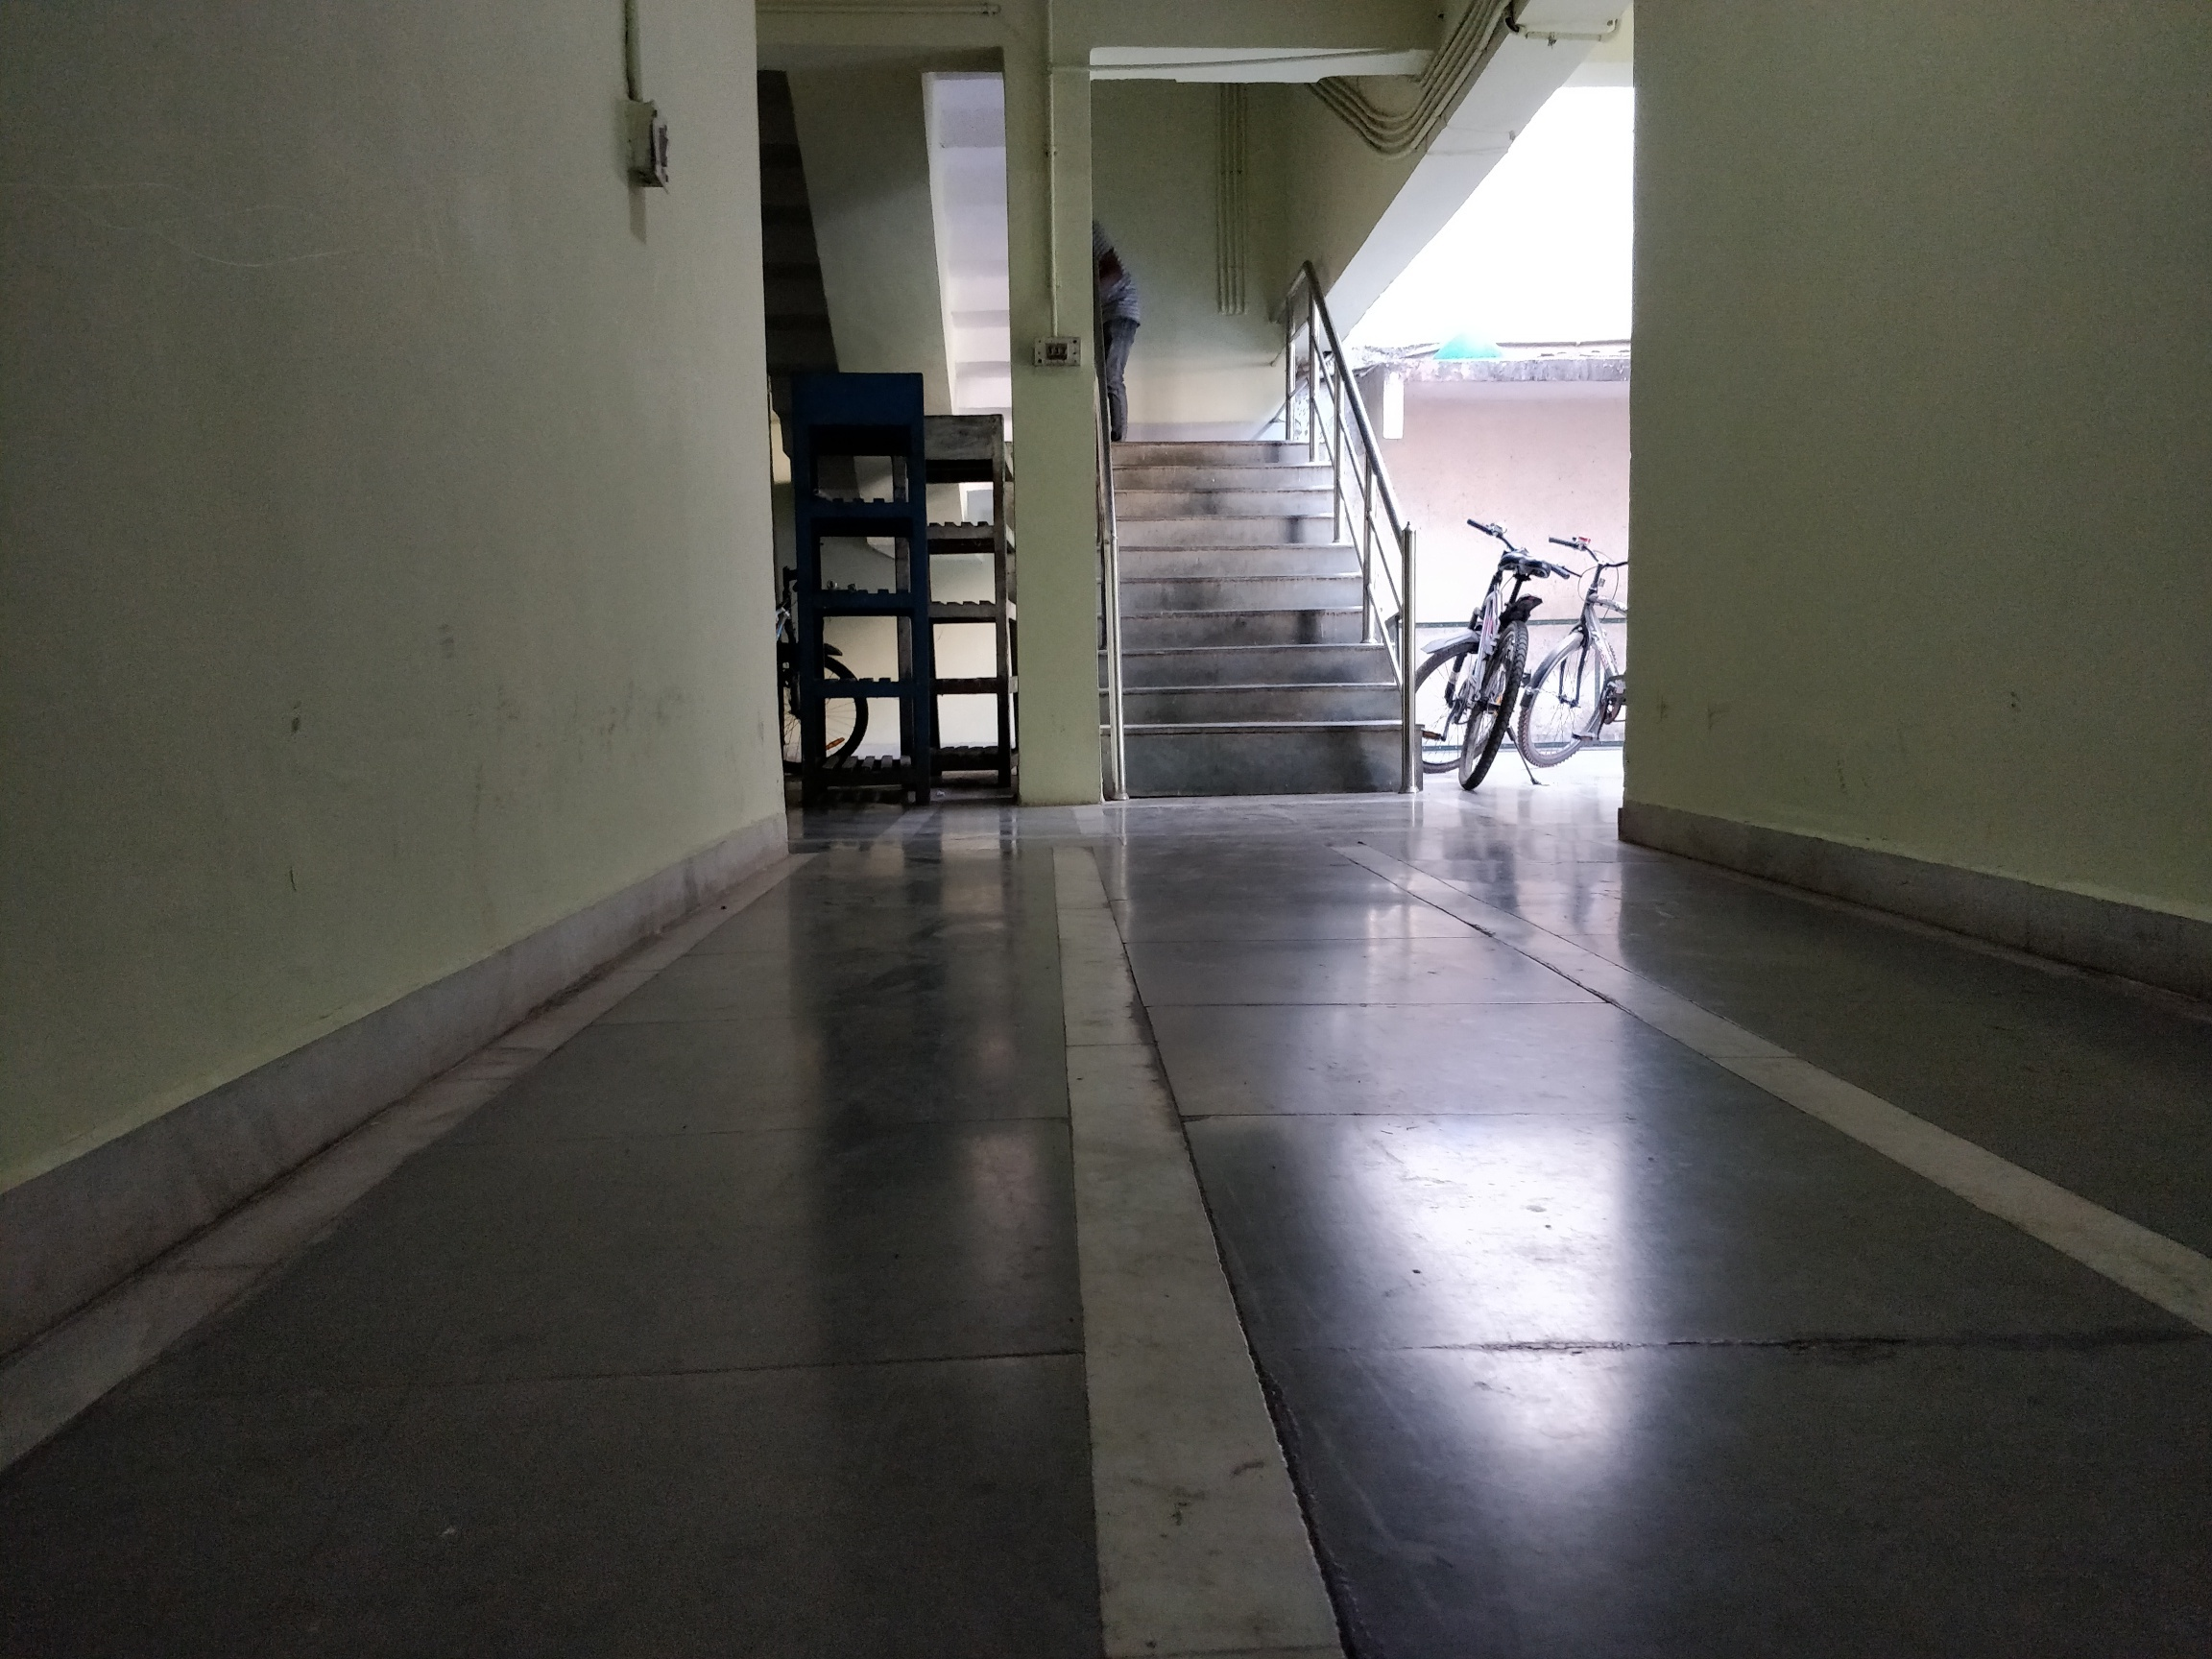stairs_up: (1109, 443, 1399, 789)
